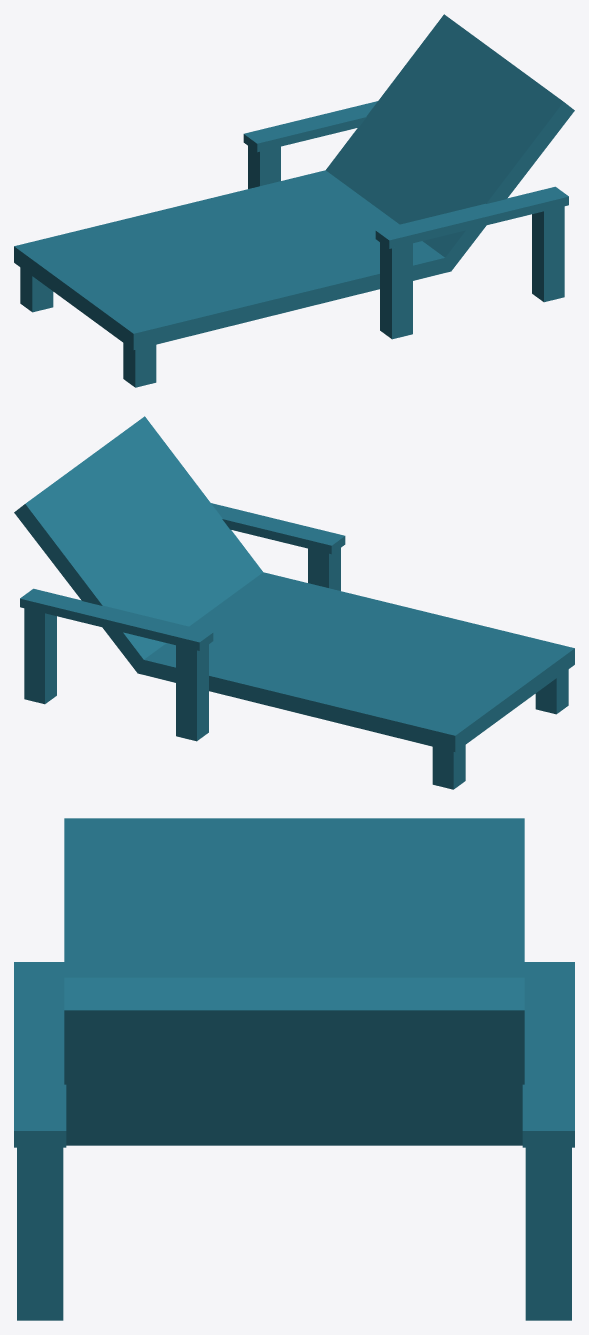
Rendered from pool_chair_02.fbx.
3 renders of one model, top to bottom at view 1: azimuth 30°, elevation 25°; view 2: azimuth 150°, elevation 25°; view 3: azimuth 270°, elevation 25°, orthographic. The views are drawn at different scales.
Parts seen in each view (by area): view 1: pool_chair_02; view 2: pool_chair_02; view 3: pool_chair_02.
Boxes of the visible parts, left/top/right/bottom form: pool_chair_02: left=14, top=14, right=574, bottom=387; pool_chair_02: left=14, top=416, right=574, bottom=789; pool_chair_02: left=14, top=818, right=574, bottom=1320.
Size of the model in its own units: 1.74 by 0.6939 by 0.9975.
